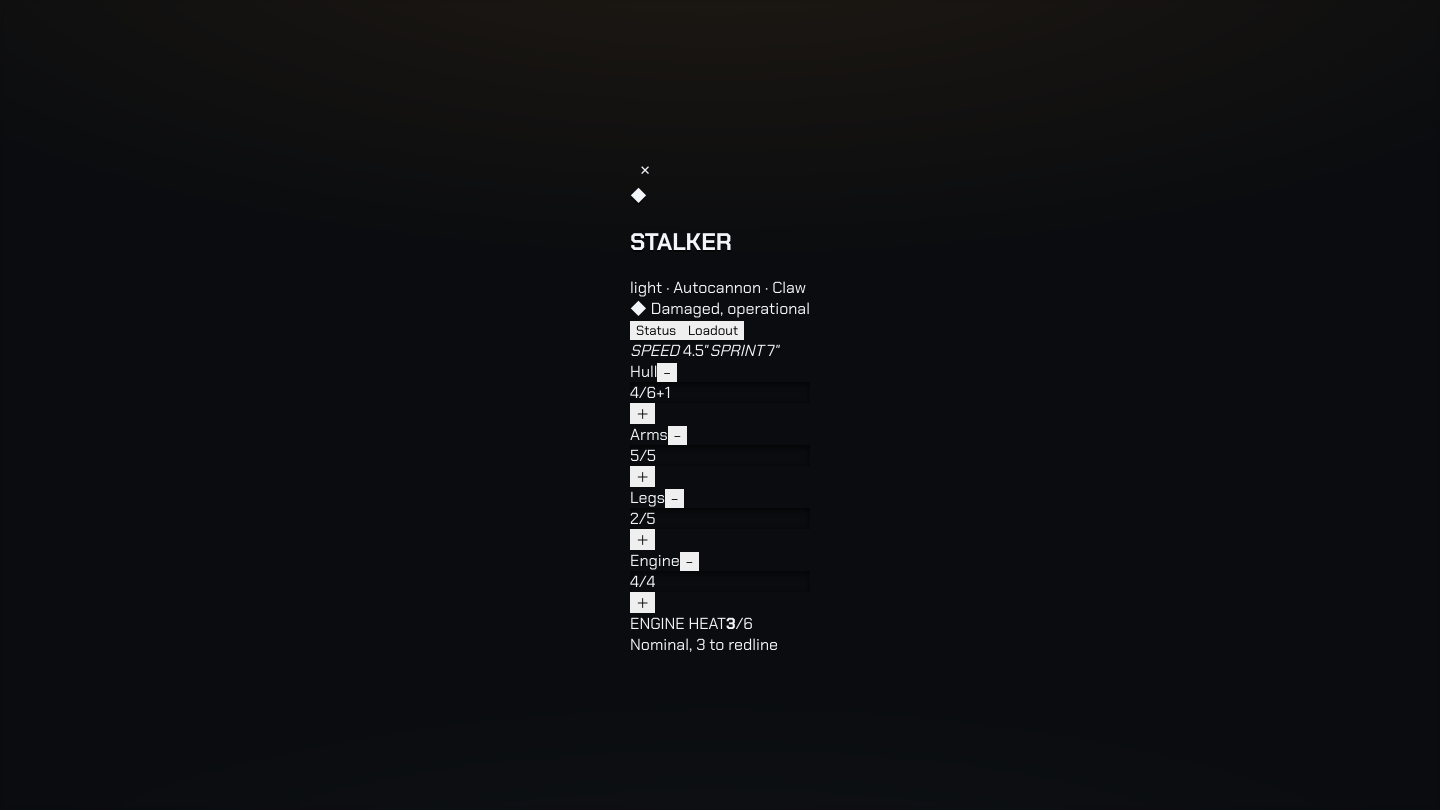
Scenario: enemy rig still exposes the Loadout tab
Click the tab "Loadout": (713, 330) [682,321,744,340]
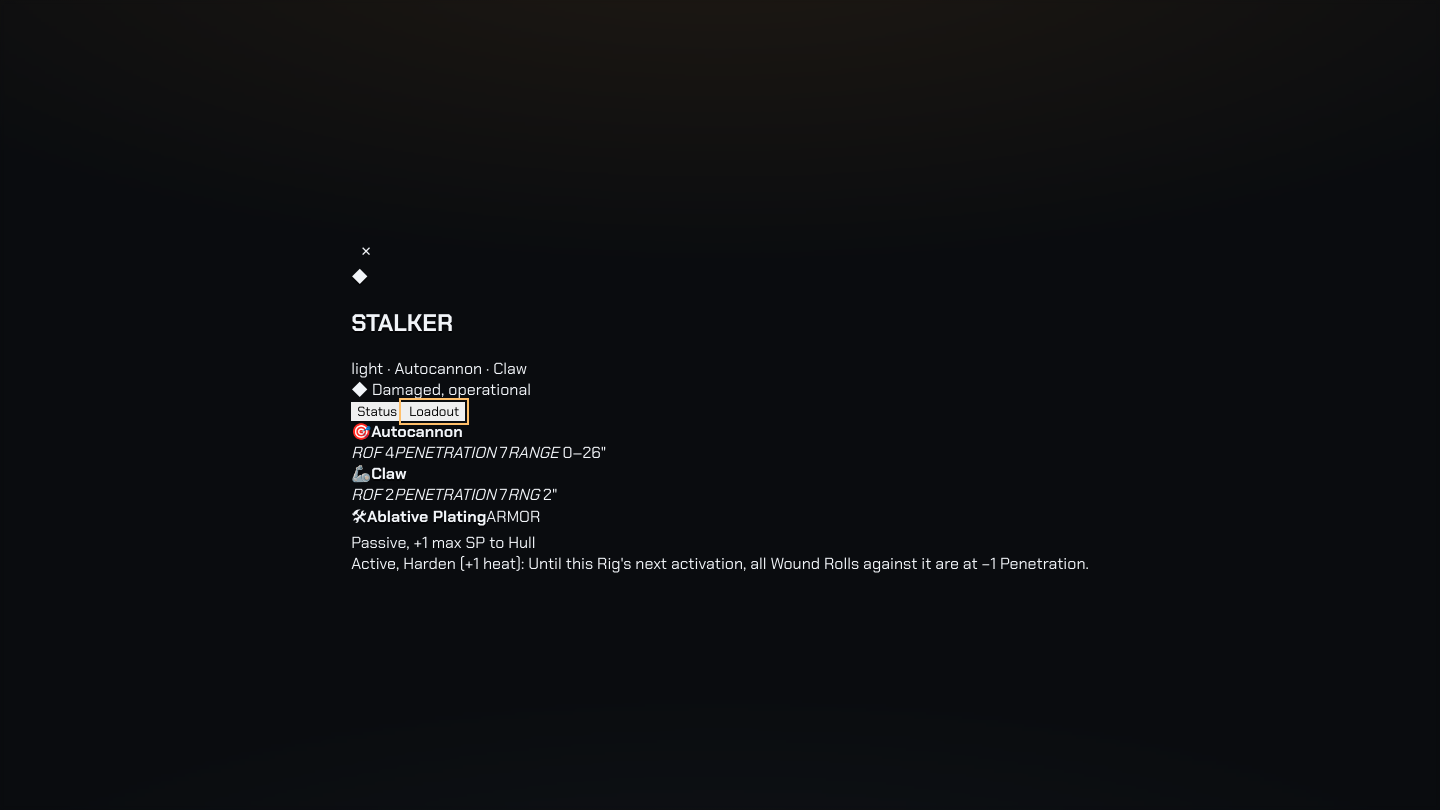
Check: the text "Autocannon" is shown, box [371,421,463,442]
